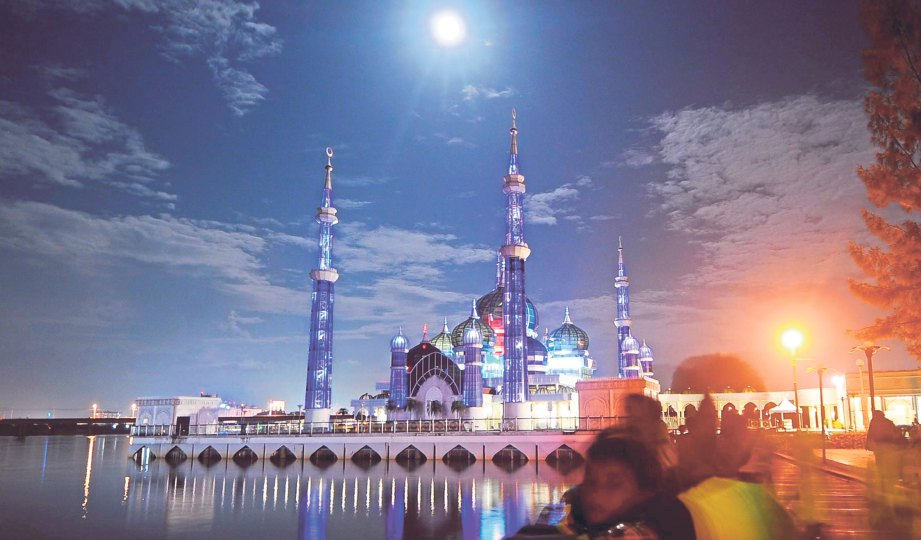Mosque: (166, 119, 651, 446)
